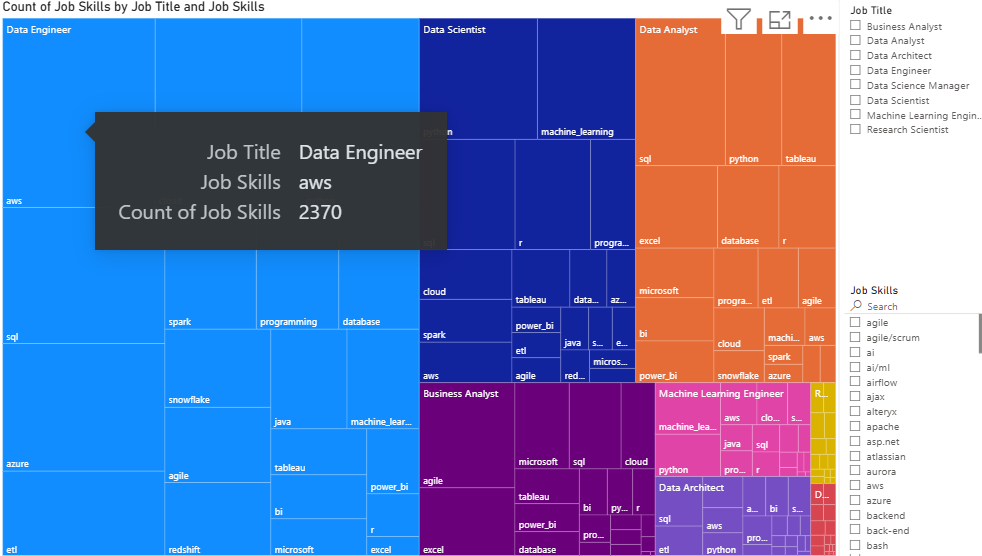

What the dashboard file says about the page in this screenshot:
{"tool":"powerbi","page":{"name":"Job Titles","canvas":[1280,720],"ordinal":5},"visuals":[{"type":"treemap","fields":{"Details":["Job Skills.Job Skills"],"Group":["Job Postings.Job Title"],"Values":["CountNonNull(Job Skills.Job Skills)"]},"box":[9.7,0,1078.7,719.8],"z":0},{"type":"slicer","fields":{"Values":["Job Postings.Job Title"]},"box":[1088.4,0,191.6,359.9],"z":1000},{"type":"slicer","fields":{"Values":["Job Skills.Job Skills"]},"box":[1089,360,191,360],"z":2000}]}

Visuals, with their boxes on the page's 1280x720 design canvas (x1, y1, x2, y2). These are canvas units, not pixel positions in the 982x556 screenshot, which may show the page scaled, cropped or inside an application window:
treemap - Job Skills.Job Skills x Job Postings.Job Title: pyautogui.locateOnScreen(10, 0, 1088, 720)
slicer - Job Postings.Job Title: pyautogui.locateOnScreen(1088, 0, 1280, 360)
slicer - Job Skills.Job Skills: pyautogui.locateOnScreen(1089, 360, 1280, 720)
